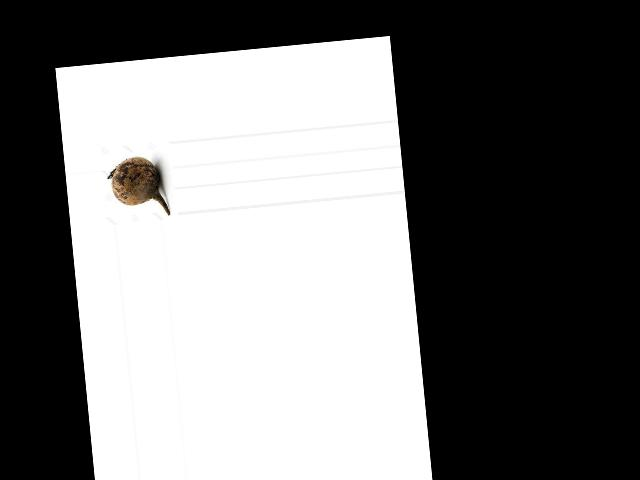beet: (105, 153, 170, 220)
